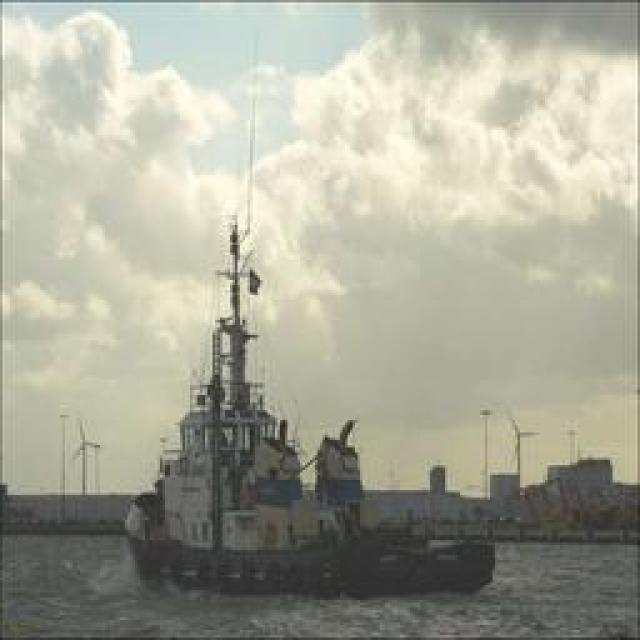ship2: (124, 225, 498, 603)
